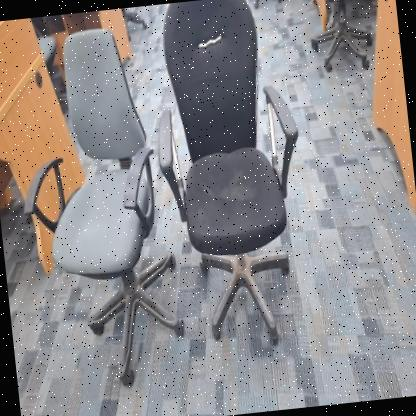chair: (0, 16, 196, 402), (139, 0, 326, 359)
